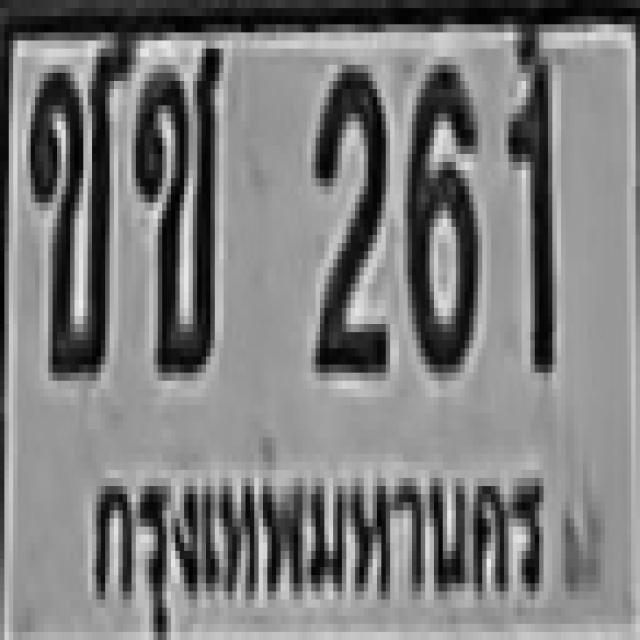1: (504, 52, 548, 368)
19ChorChang: (26, 40, 127, 372), (132, 40, 219, 372)
2: (314, 60, 384, 368)
6: (404, 56, 474, 364)
Bangkok: (82, 450, 554, 636)
